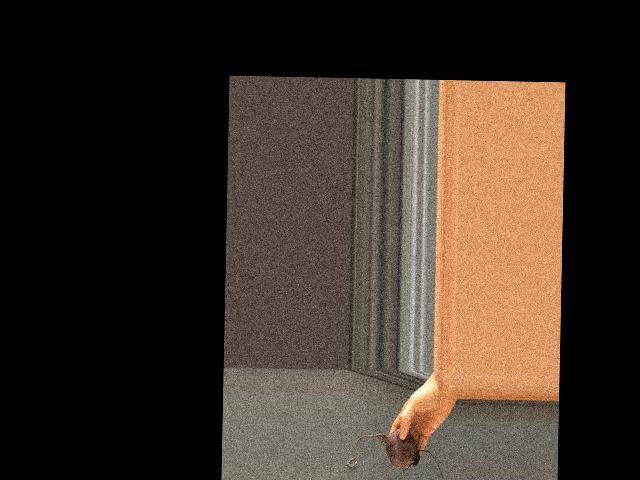beet: (353, 428, 444, 480)
